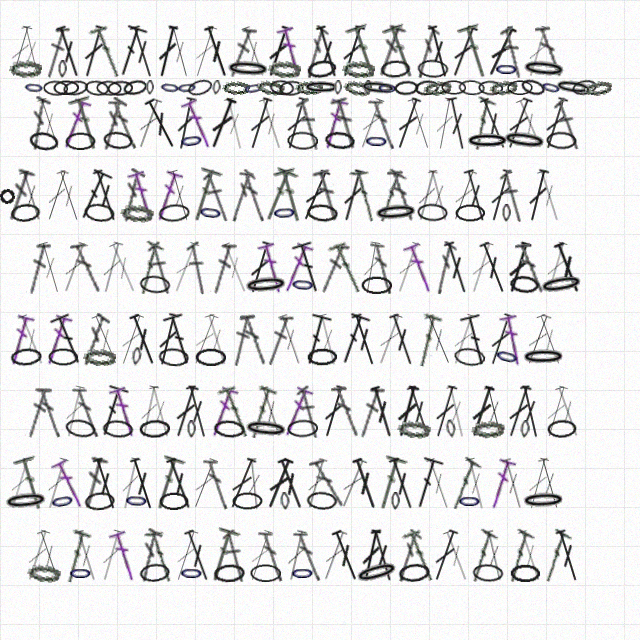chain: (353, 558, 401, 587), (538, 272, 585, 297), (501, 129, 548, 152), (521, 58, 567, 80), (243, 274, 289, 296), (243, 418, 289, 440), (3, 490, 49, 512), (373, 202, 419, 223), (225, 59, 271, 79), (521, 491, 566, 510), (465, 132, 510, 150), (521, 348, 566, 366), (64, 417, 97, 440), (453, 346, 486, 368), (554, 78, 592, 97), (306, 58, 338, 80), (28, 130, 60, 152), (83, 202, 116, 223), (359, 79, 397, 97), (120, 203, 154, 223), (397, 419, 431, 439), (471, 419, 505, 439), (27, 563, 61, 583), (102, 130, 134, 151), (139, 274, 171, 295), (398, 562, 430, 583), (324, 130, 355, 151), (10, 202, 41, 223), (509, 274, 540, 295), (139, 562, 170, 583), (493, 345, 521, 368), (158, 203, 190, 223), (306, 203, 338, 223), (10, 347, 42, 367), (102, 419, 134, 439), (213, 419, 245, 439), (306, 490, 338, 510), (213, 563, 245, 583), (472, 563, 504, 583), (9, 59, 42, 78), (380, 59, 411, 79), (158, 347, 189, 367), (84, 491, 115, 511), (417, 59, 449, 78), (583, 78, 613, 98), (268, 60, 301, 78), (342, 60, 375, 78), (83, 348, 116, 366), (49, 490, 76, 512), (287, 131, 318, 150), (546, 131, 577, 150), (417, 203, 448, 222), (139, 419, 170, 438), (287, 419, 318, 438), (186, 77, 214, 98), (519, 77, 547, 98), (547, 419, 577, 438), (178, 130, 205, 151), (197, 202, 224, 223), (65, 132, 96, 150), (361, 276, 392, 294), (195, 348, 226, 366), (232, 492, 263, 510), (250, 564, 281, 582), (303, 80, 340, 95), (489, 78, 518, 97), (455, 204, 485, 222), (48, 348, 78, 366), (307, 348, 337, 366), (159, 492, 189, 510), (510, 564, 540, 582), (343, 79, 372, 97), (423, 79, 452, 97), (122, 78, 149, 97), (571, 78, 598, 97), (290, 275, 316, 294), (256, 79, 285, 96), (62, 79, 89, 97), (272, 203, 297, 222), (124, 491, 149, 510), (84, 79, 110, 97), (458, 79, 485, 96), (539, 78, 563, 97), (494, 60, 519, 78), (364, 132, 389, 150), (457, 492, 482, 510), (68, 564, 93, 582), (179, 564, 204, 582), (290, 564, 315, 582), (269, 79, 295, 96), (414, 79, 440, 96), (222, 80, 250, 95), (295, 80, 323, 95), (96, 80, 122, 96), (107, 80, 133, 96), (242, 79, 265, 97), (43, 80, 68, 96), (279, 80, 304, 96), (394, 80, 419, 96), (478, 80, 503, 96), (53, 80, 79, 95), (507, 80, 533, 95), (441, 80, 466, 95), (23, 79, 45, 96), (159, 79, 181, 96), (176, 79, 198, 96), (377, 80, 398, 96), (445, 419, 457, 438), (131, 347, 142, 366), (520, 420, 530, 438), (280, 492, 290, 510), (58, 60, 67, 78), (502, 204, 511, 222), (187, 420, 196, 438), (391, 492, 400, 510), (212, 80, 221, 95), (146, 80, 154, 95), (334, 80, 342, 95), (364, 80, 372, 95)
double: (73, 167, 114, 224), (258, 167, 299, 224), (49, 311, 89, 368), (345, 23, 384, 80), (382, 23, 421, 80), (141, 96, 181, 151), (334, 311, 372, 368), (327, 240, 365, 296), (445, 456, 483, 512), (112, 23, 149, 80), (457, 23, 494, 80), (68, 95, 105, 152), (186, 167, 223, 224), (13, 455, 50, 512), (149, 455, 186, 512), (204, 527, 241, 584), (482, 24, 520, 79), (50, 456, 88, 511), (216, 384, 253, 440), (401, 528, 438, 584), (273, 167, 309, 224), (291, 239, 327, 296), (162, 311, 198, 368), (94, 383, 130, 440), (372, 455, 408, 512), (409, 455, 445, 512), (512, 96, 549, 151), (297, 168, 334, 223), (105, 240, 142, 295), (87, 312, 124, 367), (420, 312, 457, 367), (88, 24, 124, 80), (372, 168, 408, 224), (242, 384, 278, 440), (180, 96, 216, 151), (476, 96, 512, 151), (217, 240, 253, 295), (550, 240, 586, 295), (14, 312, 50, 367), (224, 456, 260, 511), (261, 456, 297, 511), (335, 456, 371, 511), (309, 457, 346, 510), (538, 528, 573, 584), (446, 24, 481, 79), (205, 96, 240, 151), (501, 96, 536, 151), (57, 240, 92, 295), (168, 240, 203, 295), (279, 240, 314, 295), (402, 240, 437, 295), (476, 240, 511, 295), (187, 312, 222, 367), (372, 312, 407, 367), (520, 312, 555, 367), (532, 312, 567, 367), (279, 384, 314, 439), (162, 456, 197, 511), (187, 456, 222, 511), (180, 528, 215, 583), (328, 528, 363, 583), (439, 528, 474, 583), (299, 312, 333, 368), (459, 312, 493, 368), (58, 528, 92, 584), (465, 528, 499, 584), (502, 528, 536, 584), (76, 313, 111, 367), (237, 24, 271, 79), (373, 24, 407, 79), (58, 96, 92, 151), (132, 96, 166, 151), (354, 96, 388, 151), (391, 96, 425, 151), (447, 168, 481, 223), (391, 240, 425, 295), (114, 312, 148, 367), (126, 312, 160, 367), (385, 312, 419, 367), (551, 384, 585, 439), (274, 456, 308, 511), (348, 456, 382, 511), (385, 456, 419, 511), (243, 528, 277, 583), (317, 528, 351, 583), (428, 528, 462, 583), (410, 312, 443, 368), (144, 528, 177, 584), (52, 24, 85, 79), (126, 24, 159, 79), (188, 24, 221, 79), (200, 24, 233, 79), (262, 24, 295, 79), (336, 24, 369, 79), (33, 96, 66, 151), (255, 96, 288, 151), (403, 96, 436, 151), (539, 96, 572, 151), (3, 168, 36, 223), (15, 168, 48, 223), (89, 168, 122, 223), (151, 168, 184, 223), (533, 168, 566, 223), (440, 240, 473, 295), (465, 240, 498, 295), (274, 312, 307, 367), (348, 312, 381, 367), (447, 312, 480, 367), (484, 312, 517, 367), (169, 384, 202, 439), (206, 384, 239, 439), (255, 384, 288, 439), (403, 384, 436, 439), (502, 384, 535, 439), (89, 456, 122, 511), (126, 456, 159, 511), (422, 456, 455, 511), (21, 528, 54, 583), (33, 528, 66, 583), (70, 528, 103, 583), (169, 528, 202, 583), (514, 528, 547, 583), (133, 240, 165, 296), (70, 241, 103, 295), (317, 241, 350, 295), (4, 24, 36, 79), (522, 24, 554, 79), (244, 96, 276, 151), (330, 96, 362, 151), (41, 168, 73, 223), (53, 168, 85, 223), (312, 168, 344, 223), (34, 240, 66, 295), (244, 240, 276, 295), (503, 240, 535, 295), (540, 240, 572, 295), (41, 312, 73, 367), (201, 312, 233, 367), (108, 384, 140, 439), (318, 384, 350, 439), (429, 384, 461, 439), (466, 384, 498, 439), (540, 384, 572, 439), (4, 456, 36, 511), (41, 456, 73, 511), (485, 456, 517, 511), (108, 528, 140, 583), (552, 528, 584, 583), (96, 97, 128, 151), (108, 97, 140, 151), (552, 97, 584, 151), (201, 169, 233, 223), (78, 24, 109, 79), (312, 24, 343, 79), (281, 96, 312, 151), (127, 168, 158, 223), (164, 168, 195, 223), (349, 168, 380, 223), (460, 168, 491, 223), (485, 168, 516, 223), (145, 384, 176, 439), (182, 384, 213, 439), (367, 384, 398, 439), (392, 384, 423, 439), (522, 456, 553, 511), (534, 456, 565, 511), (96, 528, 127, 583), (367, 528, 398, 583), (226, 25, 257, 79), (226, 169, 257, 223), (515, 241, 546, 295), (293, 529, 324, 583), (165, 24, 195, 79), (276, 24, 306, 79), (319, 96, 349, 151), (467, 96, 497, 151), (116, 168, 146, 223), (338, 168, 368, 223), (412, 168, 442, 223), (424, 168, 454, 223), (523, 168, 553, 223), (97, 240, 127, 295), (257, 240, 287, 295), (5, 312, 35, 367), (153, 312, 183, 367), (313, 312, 343, 367), (331, 384, 361, 439), (479, 384, 509, 439), (79, 456, 109, 511), (301, 456, 331, 511), (461, 456, 491, 511), (498, 456, 528, 511), (368, 97, 398, 151), (264, 313, 294, 367), (72, 385, 102, 439), (393, 529, 423, 583), (17, 24, 46, 79), (153, 24, 182, 79), (424, 24, 453, 79), (535, 24, 564, 79), (220, 96, 249, 151), (387, 168, 416, 223), (60, 384, 89, 439), (442, 384, 471, 439), (516, 384, 545, 439), (116, 456, 145, 511), (134, 528, 163, 583), (282, 528, 311, 583), (301, 25, 330, 79), (412, 25, 441, 79), (239, 169, 268, 223), (498, 169, 527, 223), (146, 241, 175, 295), (35, 385, 64, 439), (356, 385, 385, 439), (172, 96, 200, 151), (443, 96, 471, 151), (240, 312, 268, 367), (135, 384, 163, 439), (357, 528, 385, 583), (480, 528, 508, 583), (295, 97, 323, 151), (209, 241, 237, 295), (24, 385, 52, 439), (295, 385, 323, 439), (203, 457, 231, 511), (221, 529, 249, 583), (258, 529, 286, 583), (431, 96, 458, 151), (499, 312, 526, 367), (43, 25, 70, 79), (499, 25, 526, 79), (431, 241, 458, 295), (25, 96, 51, 151), (358, 240, 384, 295), (25, 241, 51, 295), (185, 241, 210, 295), (370, 241, 395, 295), (230, 313, 254, 367), (243, 457, 265, 511)
noise: (0, 186, 17, 206)
